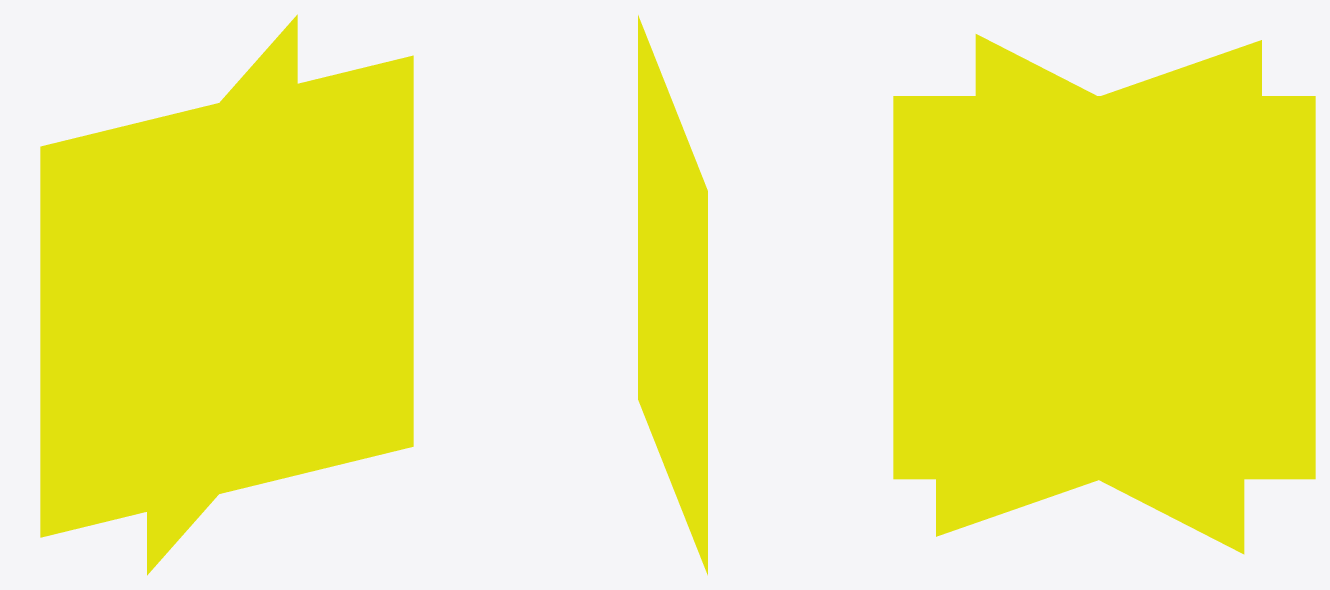
The model's file is Foliage_Bushes_Large_bush_BushLow.glb.
3 renders of one model, left to right at view 1: azimuth 30°, elevation 25°; view 2: azimuth 150°, elevation 25°; view 3: azimuth 270°, elevation 25°, orthographic. The views are drawn at different scales.
Parts seen in each view (by area): view 1: tree.Low.001; view 2: tree.Low.001; view 3: tree.Low.001.
Boxes of the visible parts, left/top/right/bottom form: tree.Low.001: left=40, top=14, right=413, bottom=575; tree.Low.001: left=638, top=15, right=707, bottom=575; tree.Low.001: left=893, top=34, right=1315, bottom=554.
Size of the model in its own units: 4.9 by 4.9 by 4.9.
Materials: 1 (1 with a texture image).
